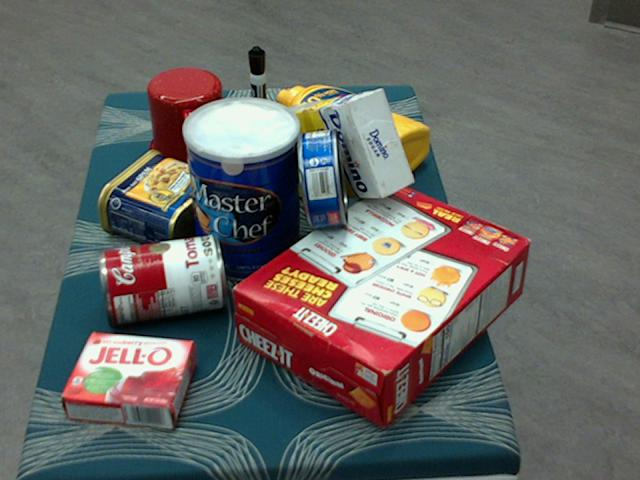cracker_box: (231, 179, 530, 426)
gelatin_box: (61, 330, 195, 428)
large_marker: (247, 46, 268, 149)
master_chef_can: (182, 99, 300, 284)
mug: (146, 68, 231, 170)
mustard_bottle: (276, 84, 428, 185)
potted_meat_can: (97, 150, 225, 251)
sugar_box: (264, 90, 412, 199)
tomato_soup_can: (97, 235, 223, 323)
tuna_fish_can: (298, 127, 348, 226)
